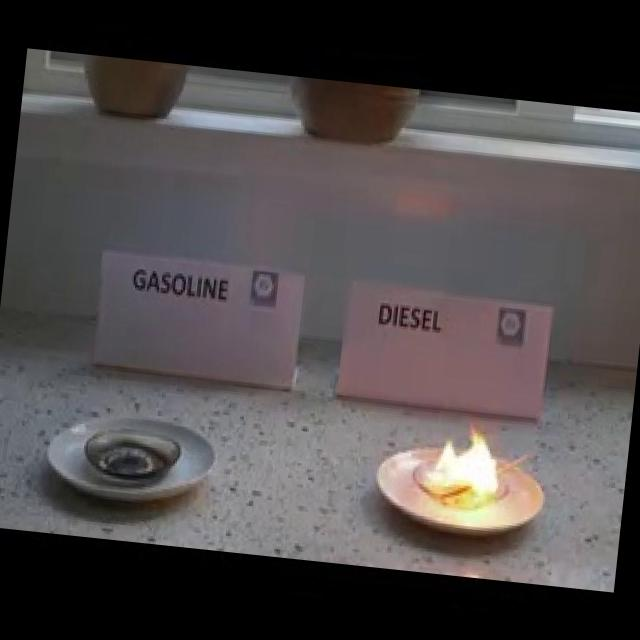Fire: (423, 416, 505, 508)
